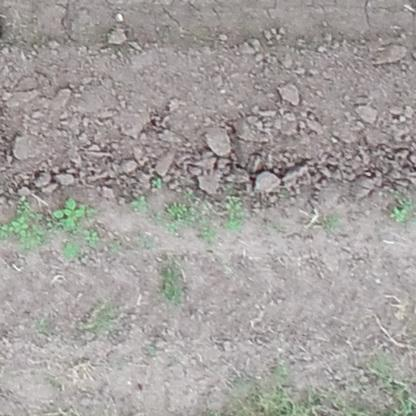vc: (55, 200, 89, 228), (392, 205, 408, 224), (225, 198, 244, 210), (150, 177, 167, 189)
